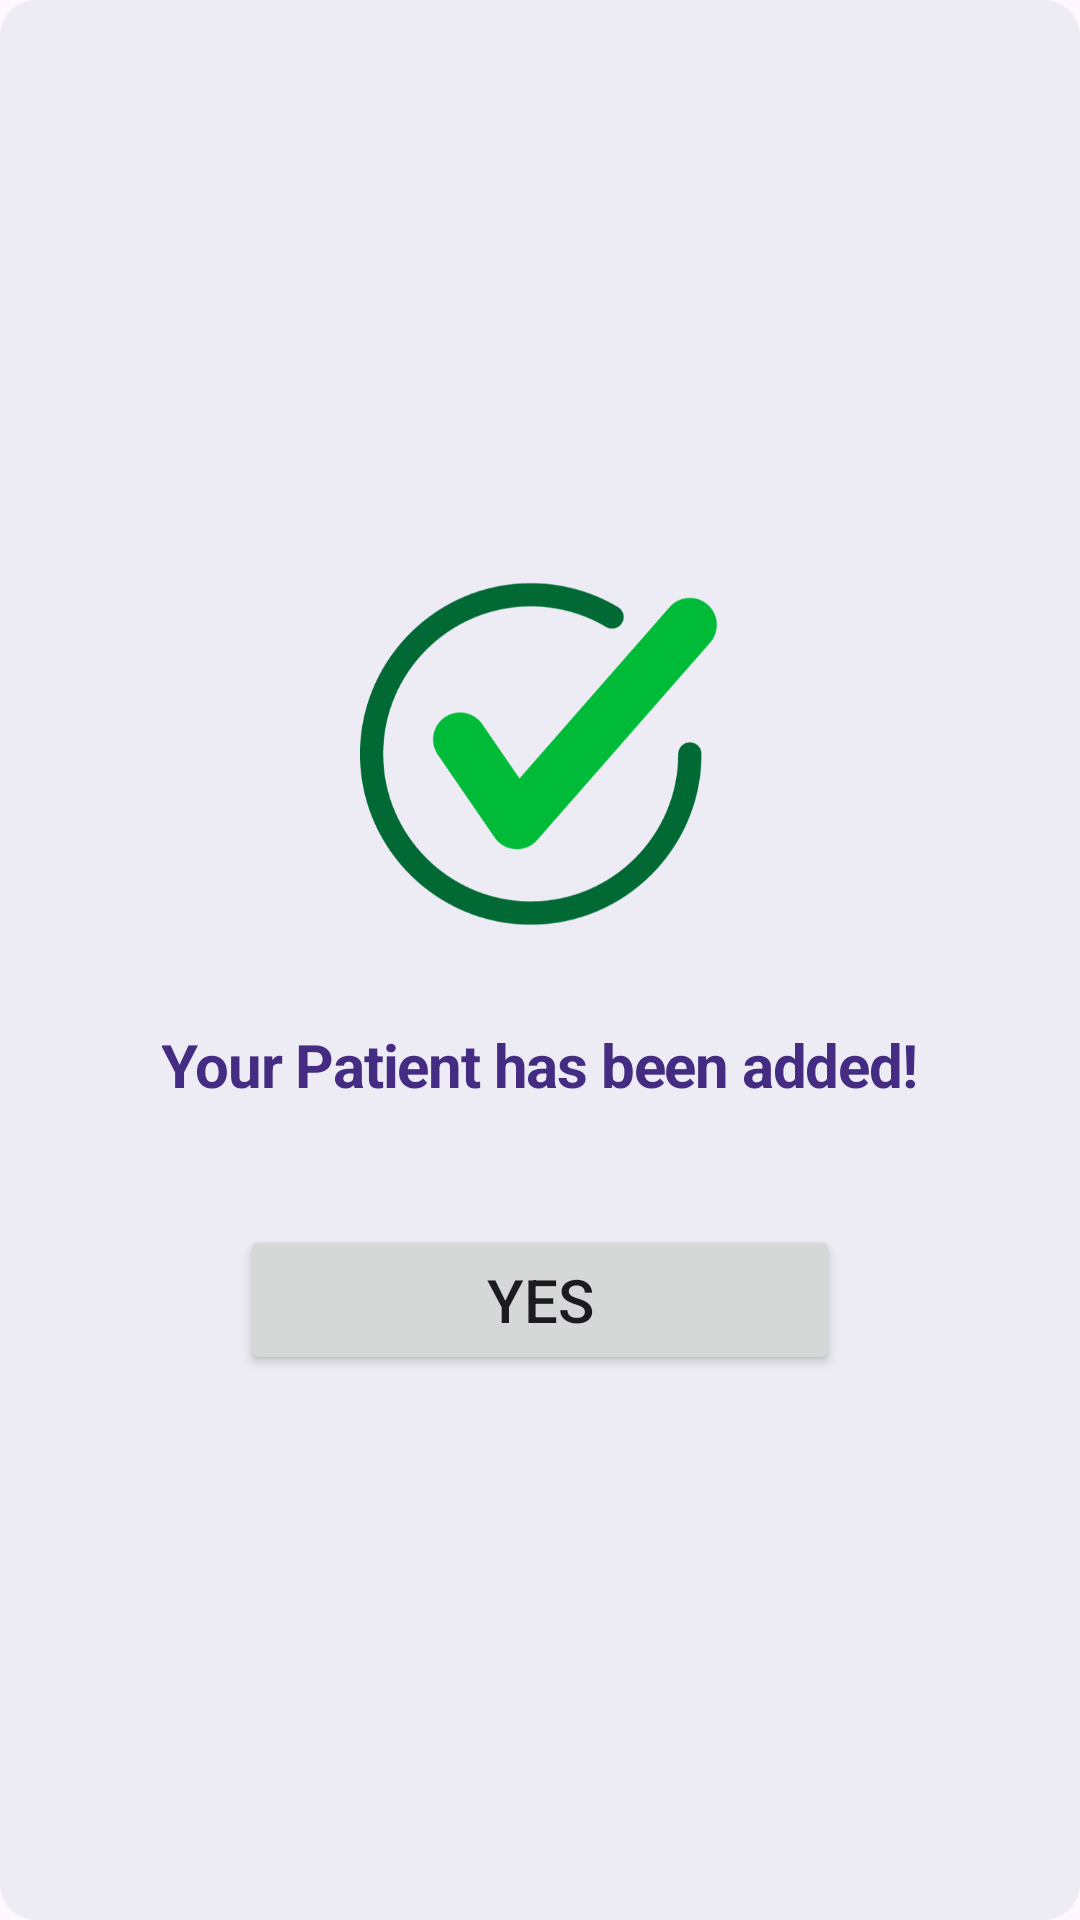

Screen size 1080 x 1920. Icon name, then its box in pixels as (x1, y1, x2, y2):
Success image checkbox: (360, 583, 717, 925)
